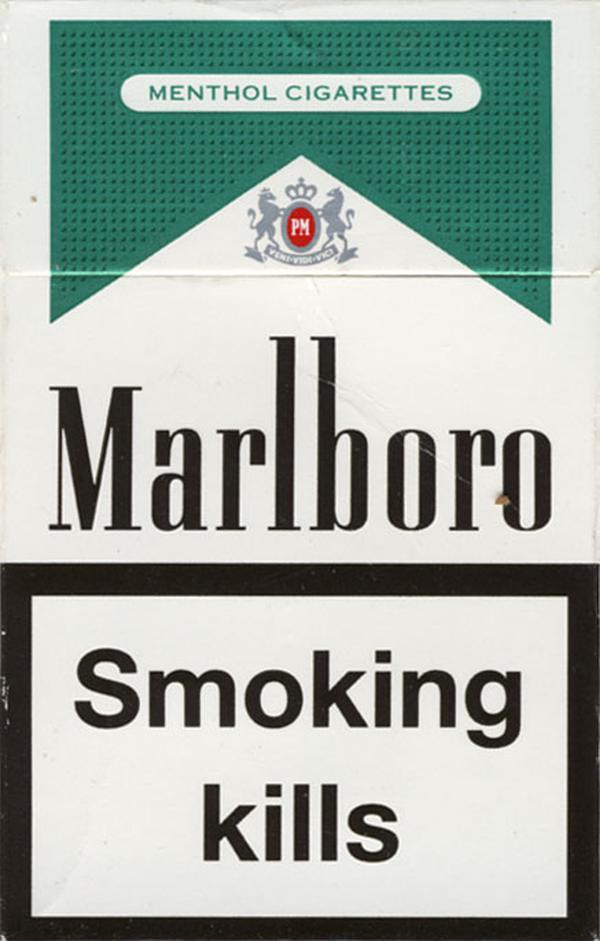marlboro_mentol: (1, 6, 595, 941)
